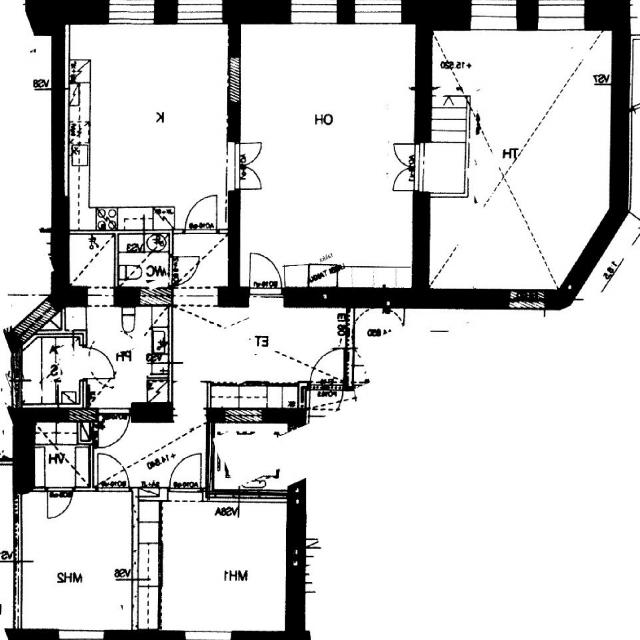door: (250, 252, 282, 307), (311, 380, 343, 424), (100, 408, 130, 454), (311, 346, 343, 389), (170, 452, 202, 490), (99, 452, 130, 490), (186, 196, 217, 233), (81, 348, 115, 378), (170, 256, 200, 286), (394, 167, 432, 190), (394, 144, 432, 166), (228, 166, 262, 189), (228, 143, 262, 166), (49, 487, 74, 518)
